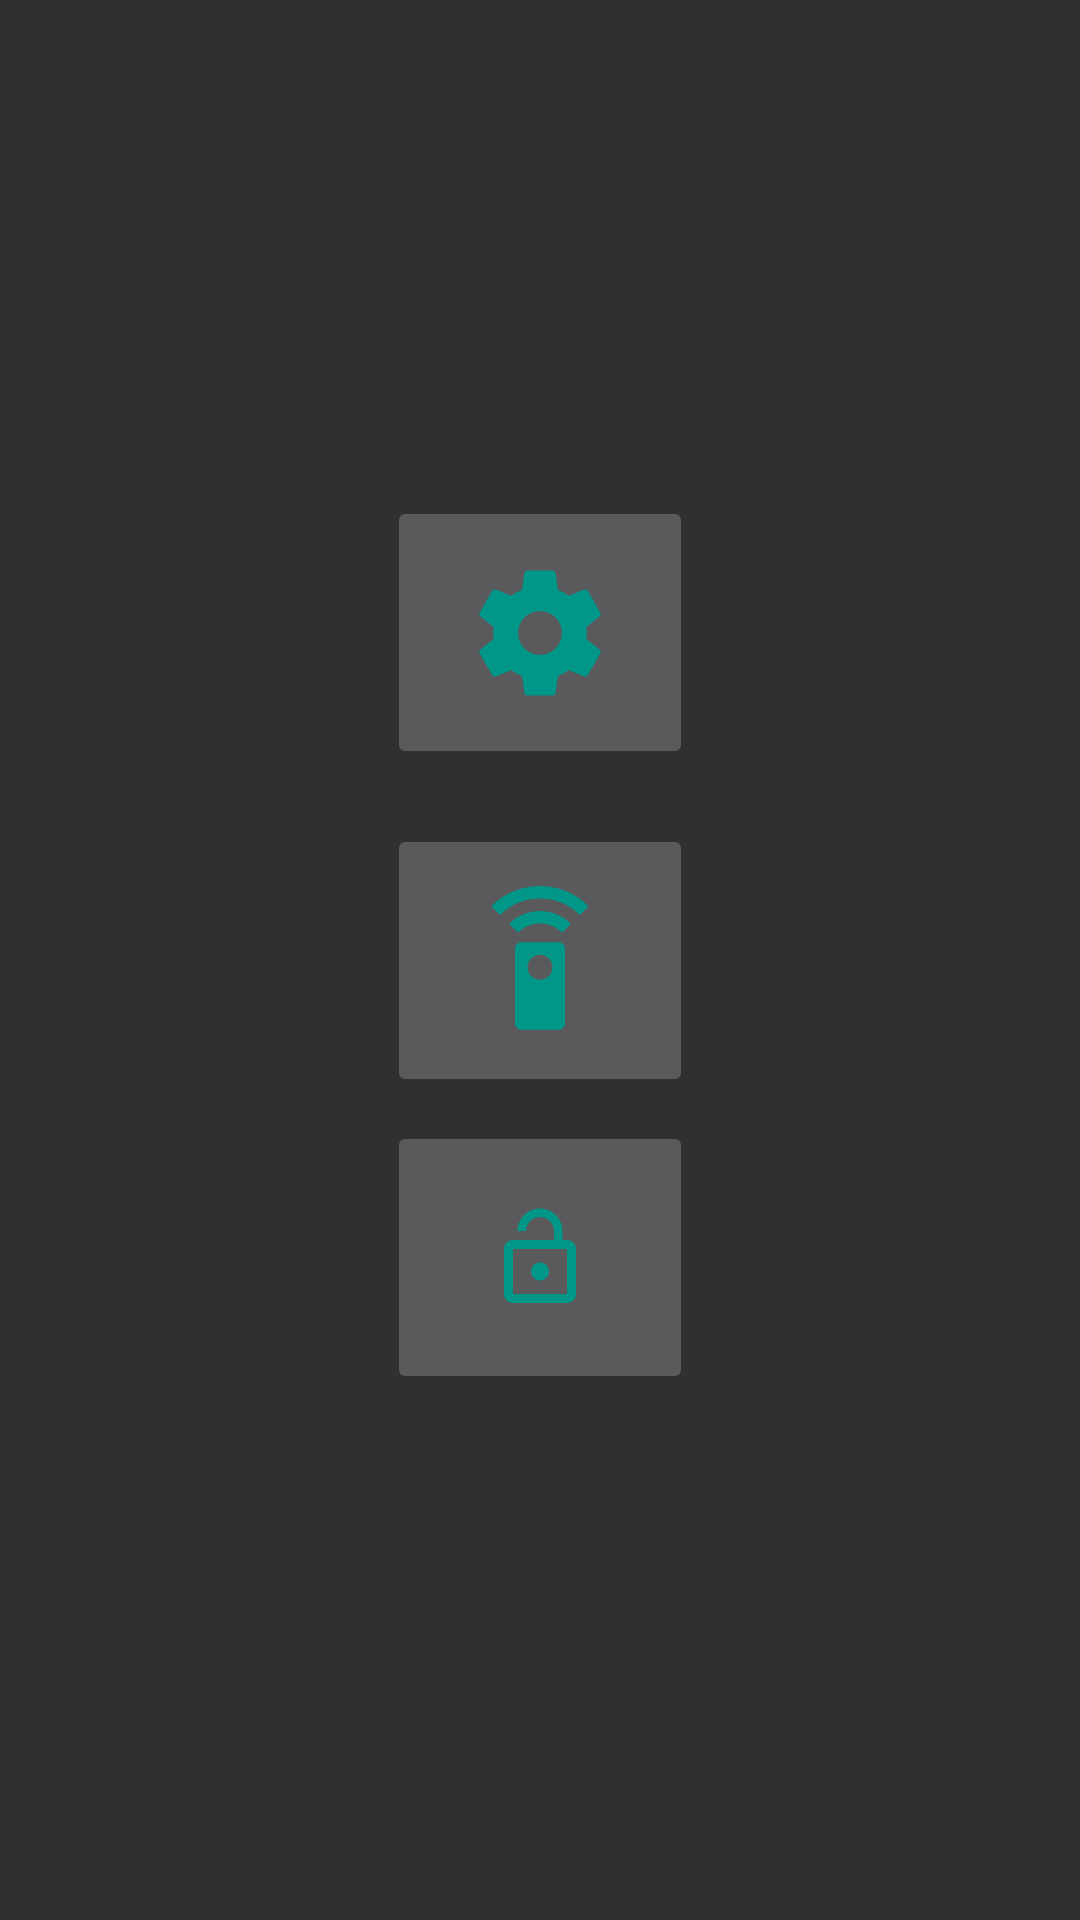

Icon click points for this 1080px x 1920px phone screenshot, format (x=x, y=y):
lock open: (x=540, y=1257)
settings: (x=540, y=632)
settings remote: (x=540, y=960)
